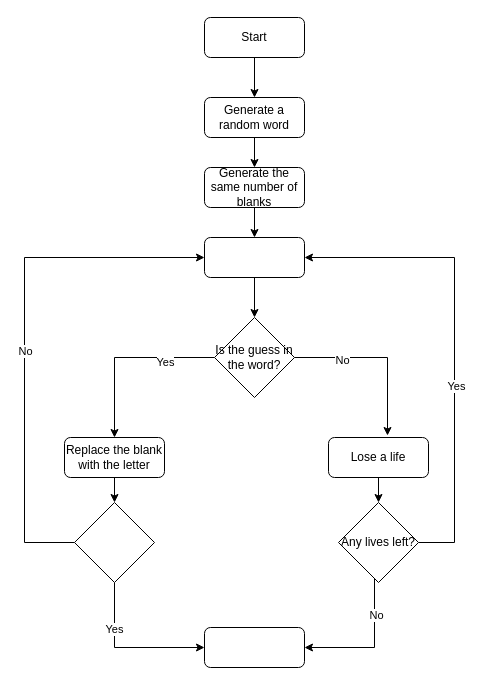
The diagram is 482 pixels wide and 685 high, and some of its shapes have lost their labels. Each missing label, with the centre of its shape:
Are all the blanks filled?: pixel 114 542
Ask the user to guess a letter: pixel 254 257
Game Over: pixel 254 647
